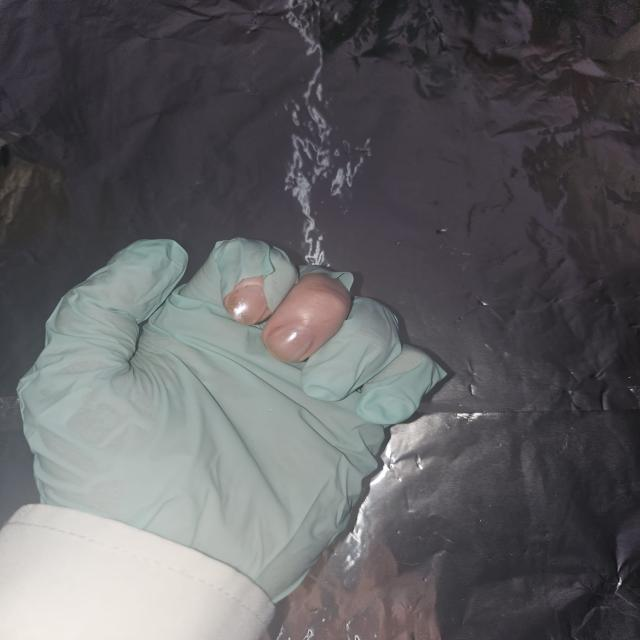gloves_damaged: (14, 236, 454, 606)
